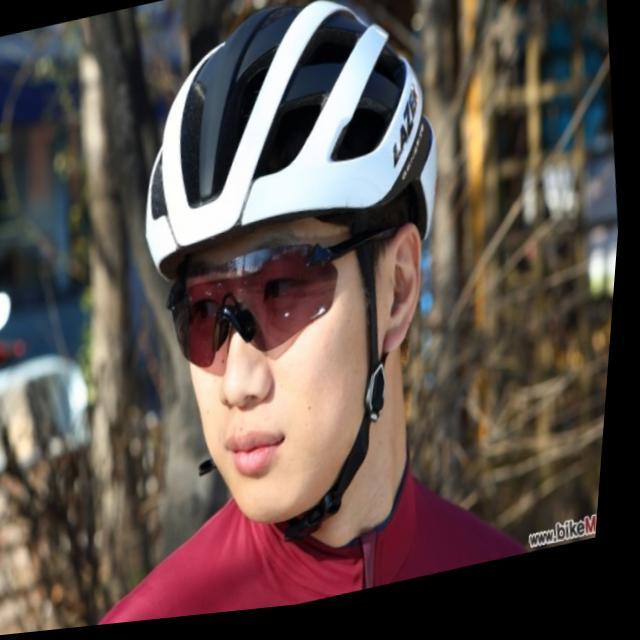Helmet: (142, 0, 439, 536)
